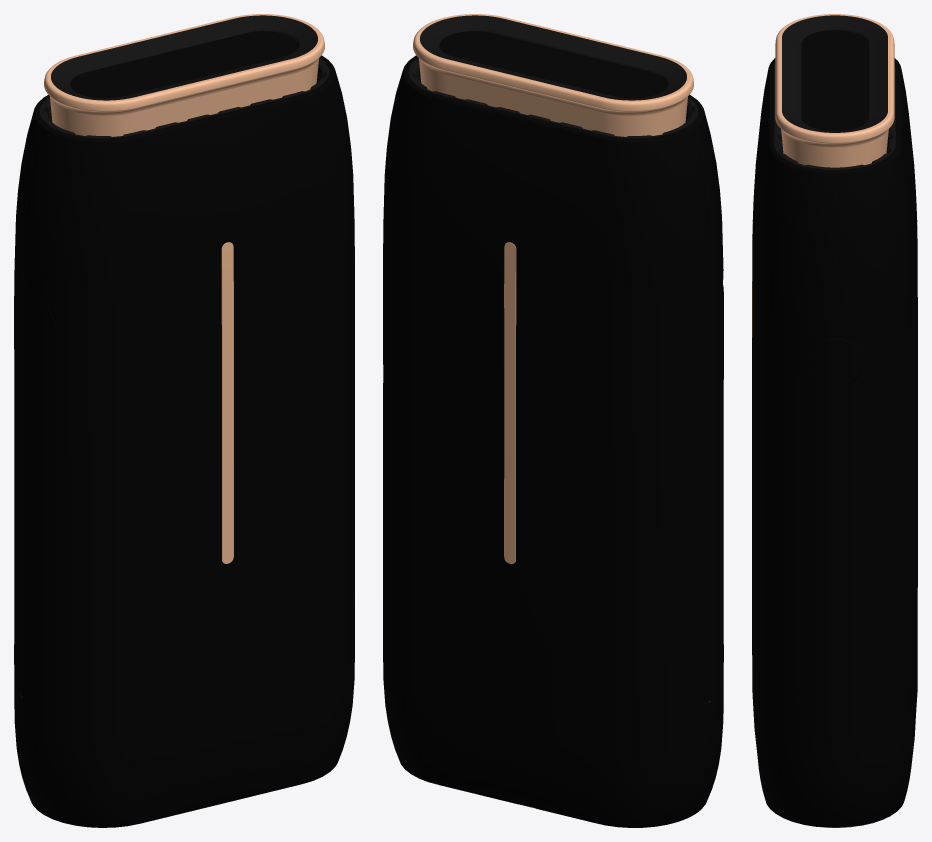
Rendered from jd015_c-002_web.glb.
3 views of the same model, side by side, from view 1: azimuth 30°, elevation 25°; view 2: azimuth 150°, elevation 25°; view 3: azimuth 270°, elevation 25° (orthographic). The views are drawn at different scales.
Visible parts, largest first — view 1: 1 (×8); view 2: 1 (×8); view 3: 1 (×8).
Boxes of the visible parts, left/top/right/bottom form: 1 (×8): left=14, top=14, right=354, bottom=827; 1 (×8): left=383, top=14, right=723, bottom=827; 1 (×8): left=752, top=14, right=917, bottom=827.
Size of the model in its own units: 0.00187 by 0.004 by 0.000875.
